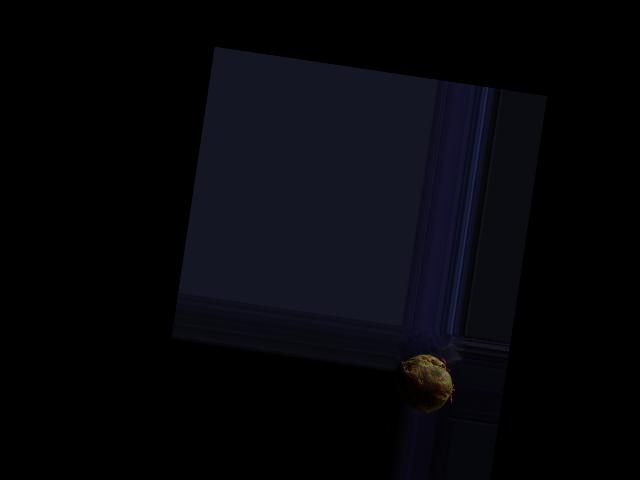beet: (389, 350, 459, 416)
